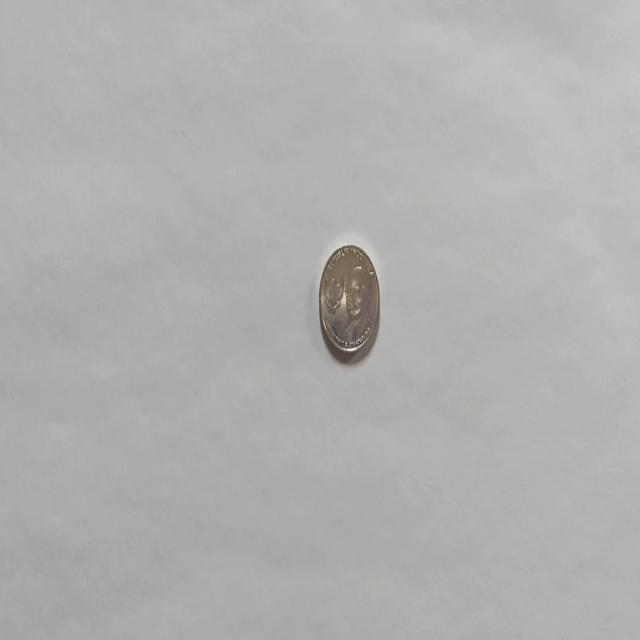lima ratus rupiah: (318, 242, 380, 358)
